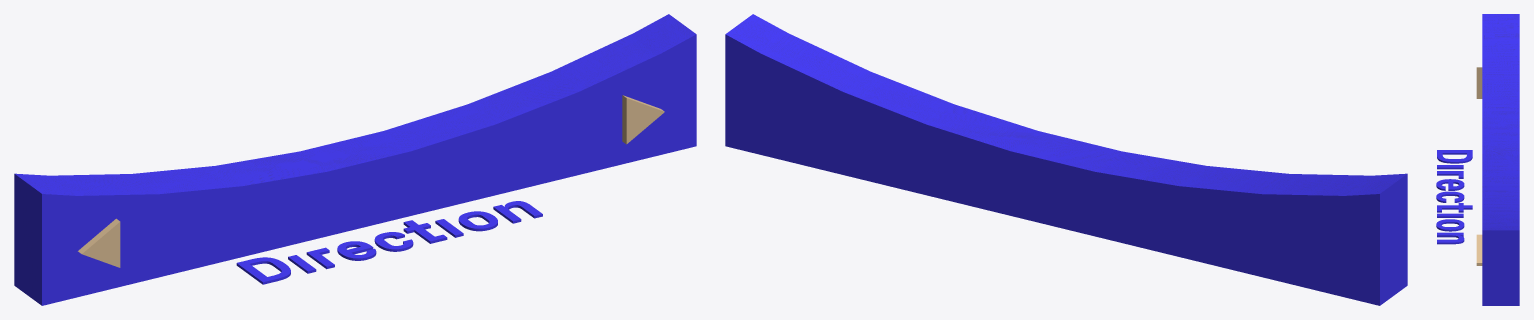
Rendered from ball-slider-01.dae.
The picture shows the model from 3 angles, left to right: view 1: azimuth 30°, elevation 25°; view 2: azimuth 150°, elevation 25°; view 3: azimuth 270°, elevation 25°; orthographic projection. The views are drawn at different scales.
Parts seen in each view (by area): view 1: group_0 (×2), Direction_1 (×6), direction (×2); view 2: group_0 (×2); view 3: group_0 (×2), Direction_1 (×9), direction (×2).
Part boxes in pixels (<box>): group_0 (×2): <box>14,14,696,305</box>; Direction_1 (×6): <box>236,201,542,284</box>; direction (×2): <box>78,95,664,267</box>; group_0 (×2): <box>725,14,1407,305</box>; group_0 (×2): <box>1482,14,1519,305</box>; Direction_1 (×9): <box>1436,150,1472,244</box>; direction (×2): <box>1476,67,1482,265</box>.
Size of the model in its own units: 108 by 17.68 by 17.75.
